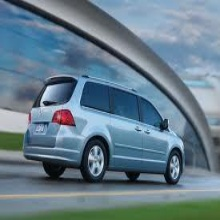no damage: (23, 73, 187, 185)
